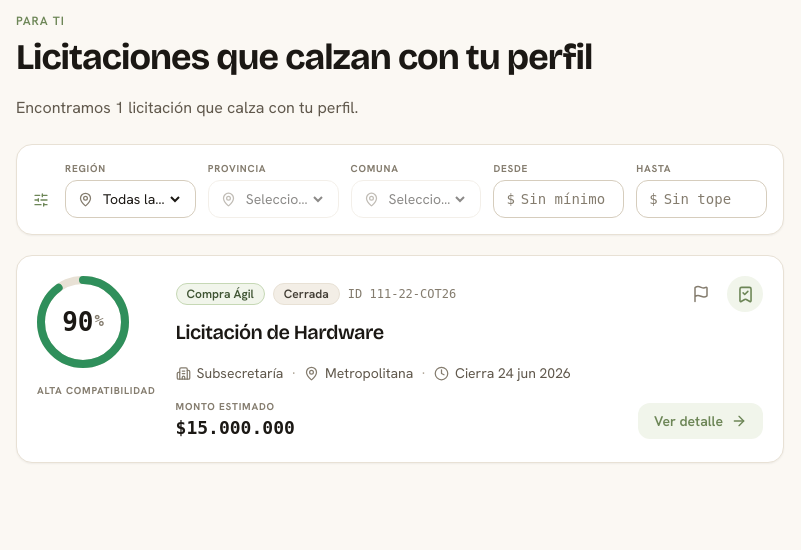
Test case: MatchesDashboard (CA-5: Rollback y notificación en error de red) › aplica rollback al estado previo y muestra notificación cuando falla quitar de guardados
Expected: the heading "Licitación de Hardware" is shown, [176,320,384,344]
Click the button named "Quitar de licitaciones guardadas": (745, 294) [727,276,763,312]
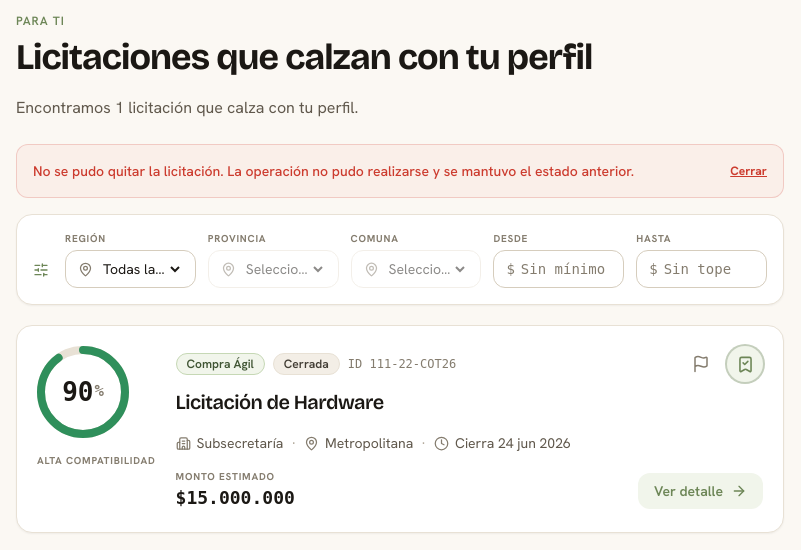
Expected: the button named "Quitar de licitaciones guardadas" is shown, [727,346,763,382]
Expected: the message shows "No se pudo quitar la licitación. La operación no pudo realizarse y se mantuvo el estado anterior.", [33,162,634,180]
